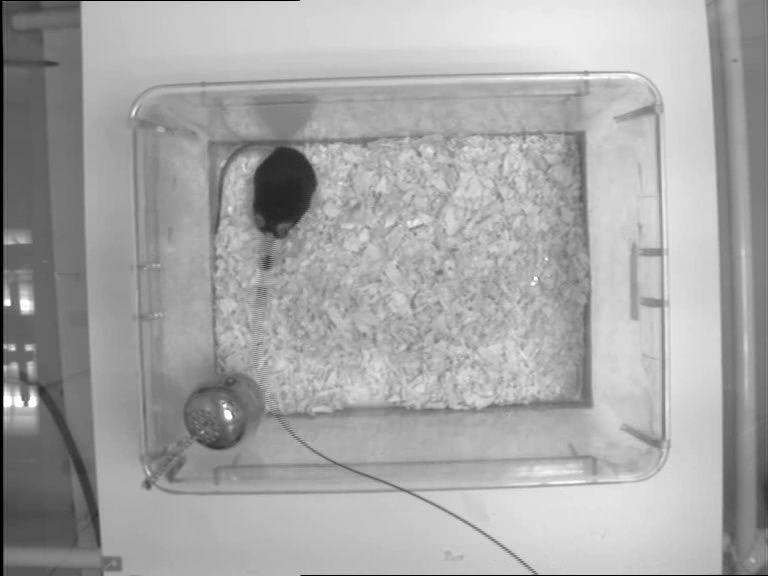mice: (209, 138, 322, 242)
